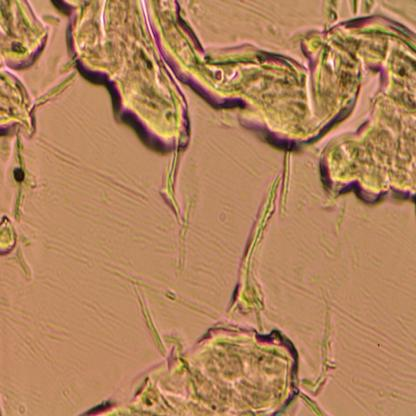Normal: (0, 0, 414, 228), (55, 337, 307, 413)
